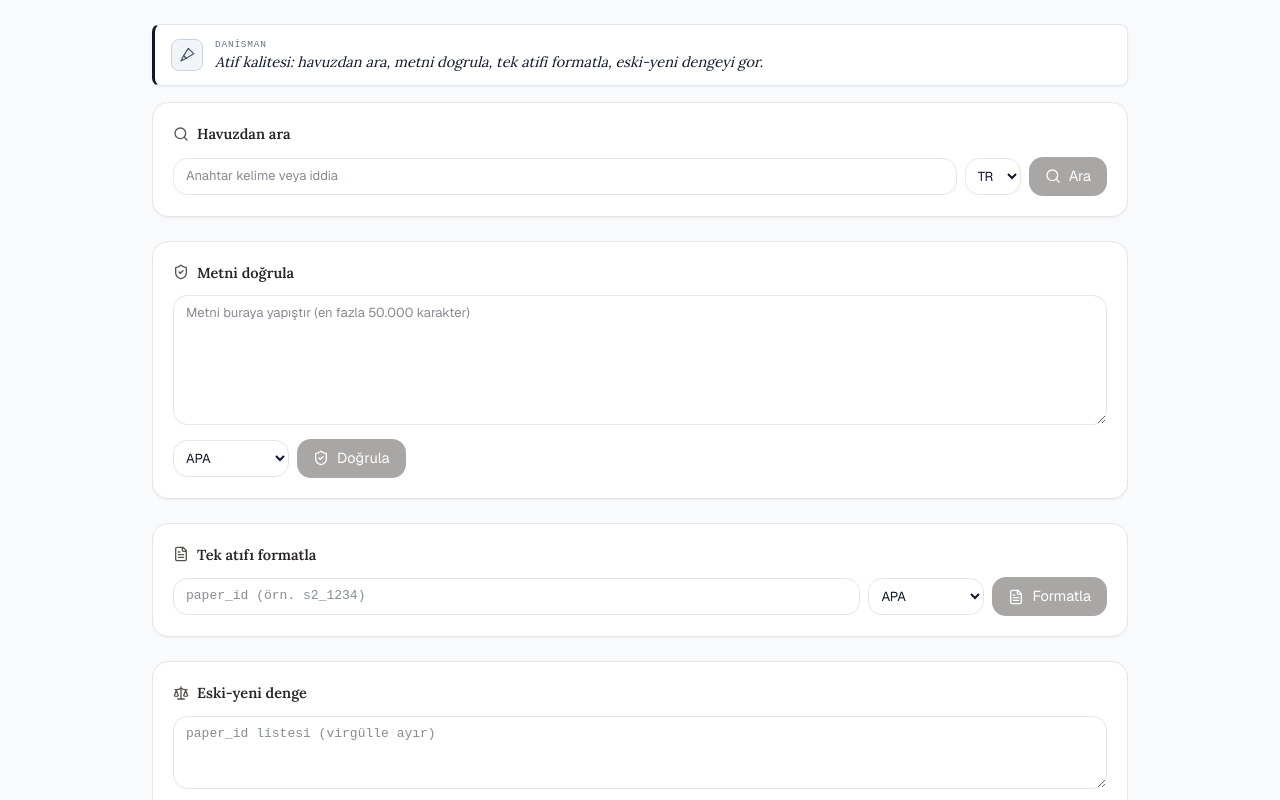
Test: CitationQualityPage › Verify → POST /citation-verify + cumle statu rozetleri + sayilar
Type "Bir cümle. İkinci cümle. Üçüncü." into the text box with placeholder "Metni buraya yapıştır (en fazla 50.000 karakter)" at (640, 360), box [173, 295, 1107, 425]
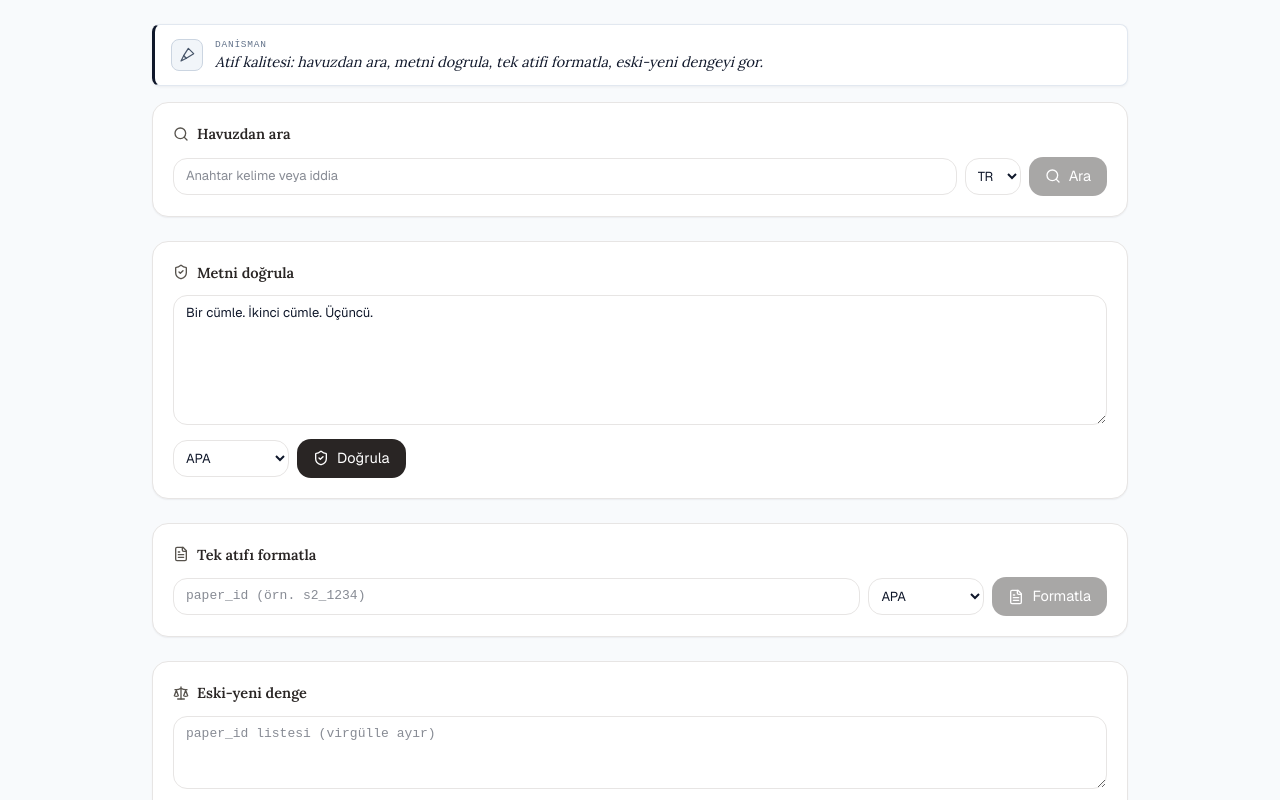
Click the button "Doğrula" at (351, 458), box [297, 439, 406, 478]
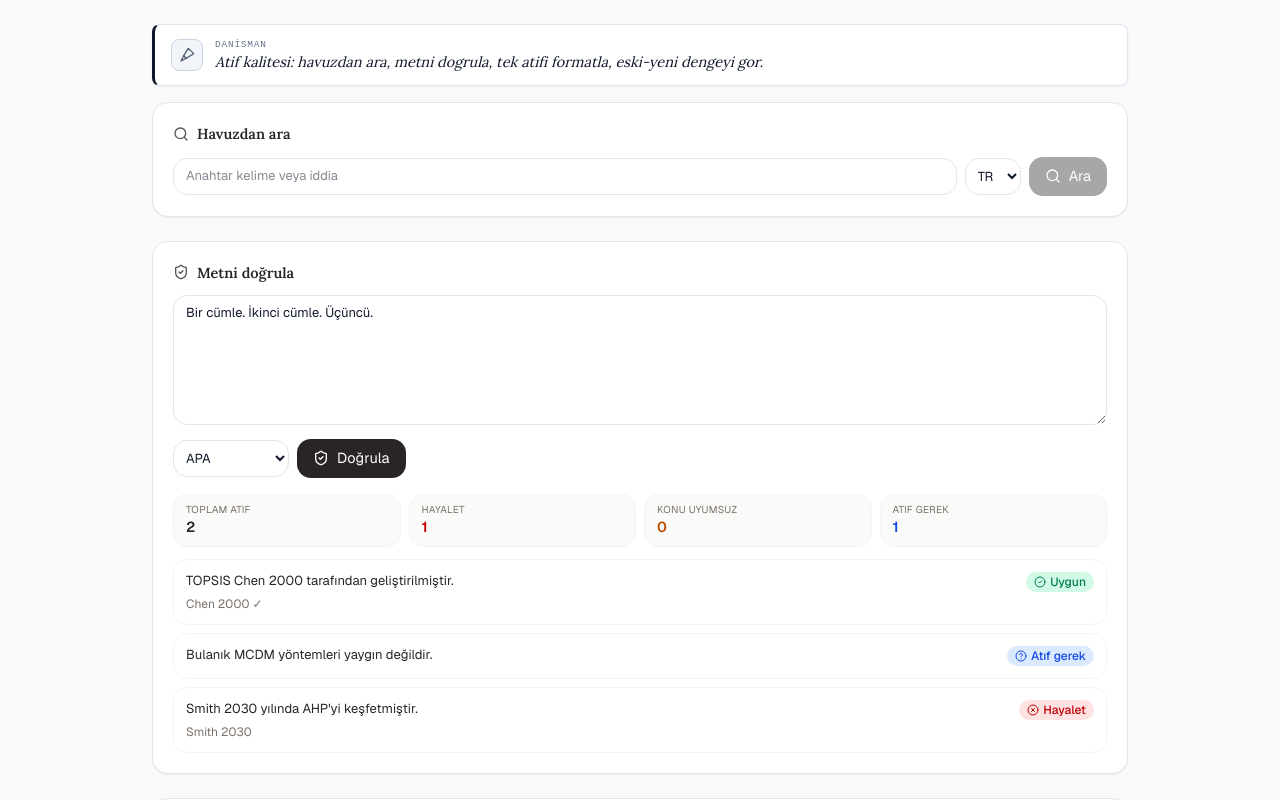
Check: the text "TOPSIS Chen 2000 tarafından geliştirilmiştir." is shown, box [186, 572, 454, 589]
Check: the text "Smith 2030 yılında AHP'yi keşfetmiştir." is shown, box [186, 700, 418, 717]
Check: the text "Hayalet" is shown, box [422, 503, 465, 516]
